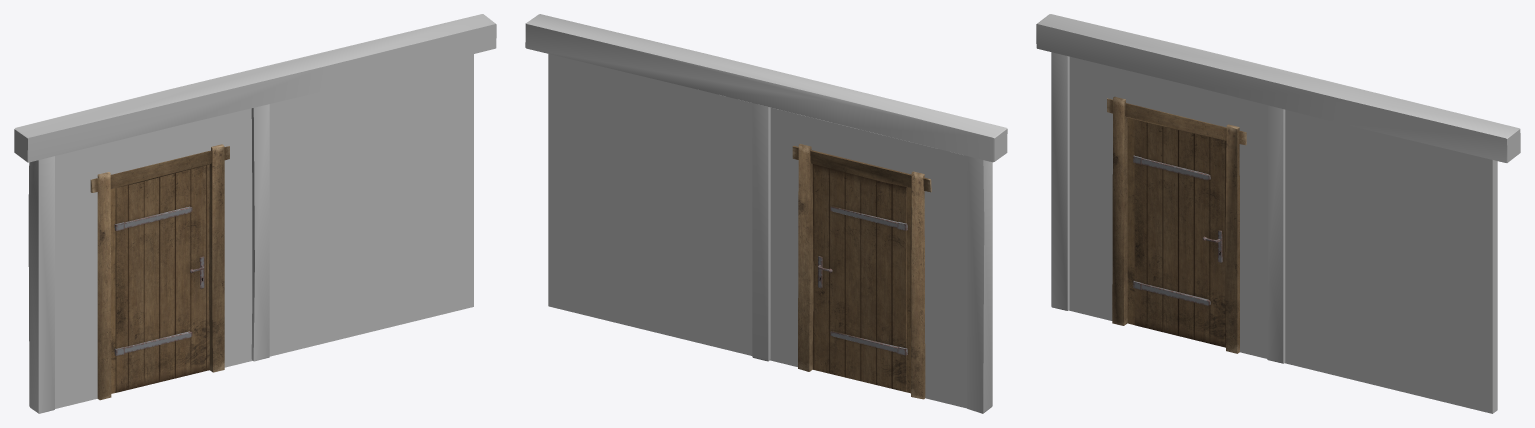
File: SM_WallElement_07_LOD_02.FBX
3 renders of one model, left to right at view 1: azimuth 30°, elevation 25°; view 2: azimuth 150°, elevation 25°; view 3: azimuth 330°, elevation 25°, orthographic.
Parts seen in each view (by area): view 1: SM_WallElement_07_LOD_02, SM_Door_01_LOD_02; view 2: SM_WallElement_07_LOD_02, SM_Door_01_LOD_02; view 3: SM_WallElement_07_LOD_02, SM_Door_01_LOD_02.
Boxes of the visible parts, x1,y1,x2,y2 form: SM_WallElement_07_LOD_02: (14, 14, 496, 413); SM_Door_01_LOD_02: (114, 164, 209, 392); SM_WallElement_07_LOD_02: (525, 14, 1007, 413); SM_Door_01_LOD_02: (812, 164, 907, 392); SM_WallElement_07_LOD_02: (1036, 14, 1520, 413); SM_Door_01_LOD_02: (1133, 119, 1226, 347).
Bounding box in the file's own units: 5.46 × 3.16 × 0.302.
